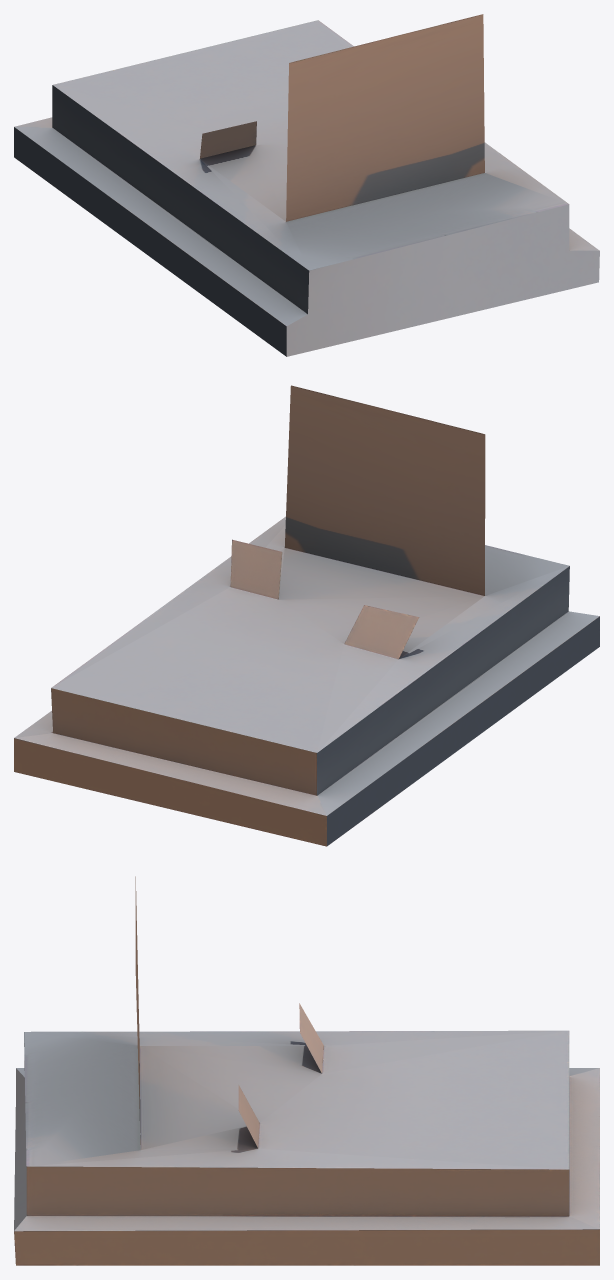
3 renders of one model, top to bottom at view 1: azimuth 30°, elevation 25°; view 2: azimuth 150°, elevation 25°; view 3: azimuth 270°, elevation 25°, orthographic. The views are drawn at different scales.
Parts seen in each view (by area): view 1: Tombe1 low; view 2: Tombe1 low; view 3: Tombe1 low.
Part boxes in pixels (<box>): Tombe1 low: <box>14,14,599,356</box>; Tombe1 low: <box>14,385,599,846</box>; Tombe1 low: <box>14,876,599,1265</box>.
Size of the model in its own units: 1.41 by 1.04 by 2.14.
Materials: 1 (1 with a texture image).
